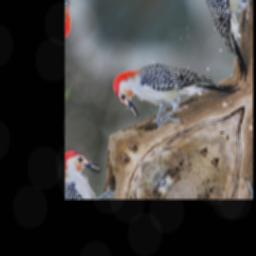Woodpecker: (106, 16, 240, 164)
